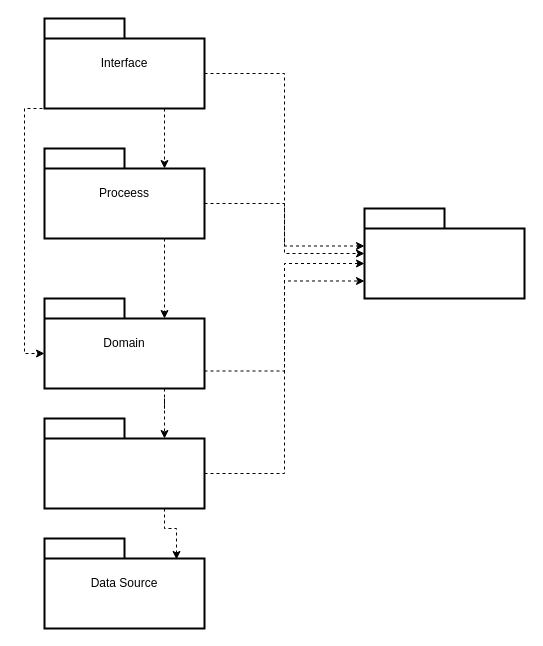
Image size: 543x646. Some labels were removed from this diagram. The shapes that lost their labels are listed below. From the top down, each one's centre as x and y in pixels, then its label:
At [444,253]: "System".
At [124,463]: "Persistence".
